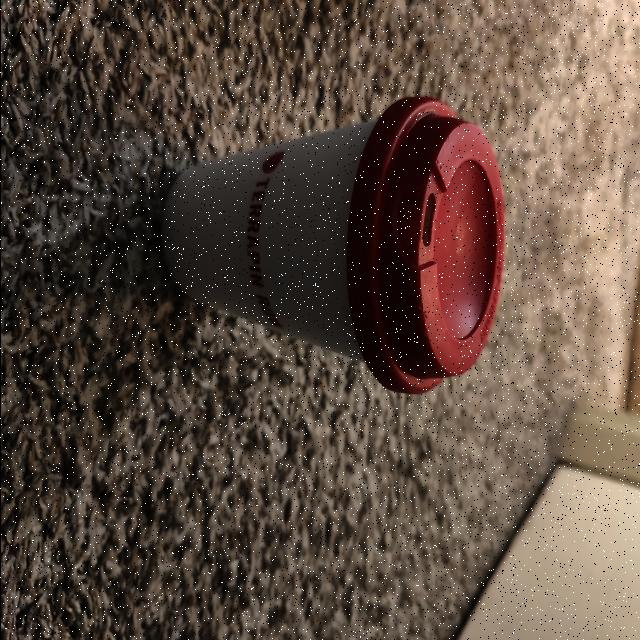mug: (163, 118, 499, 390)
